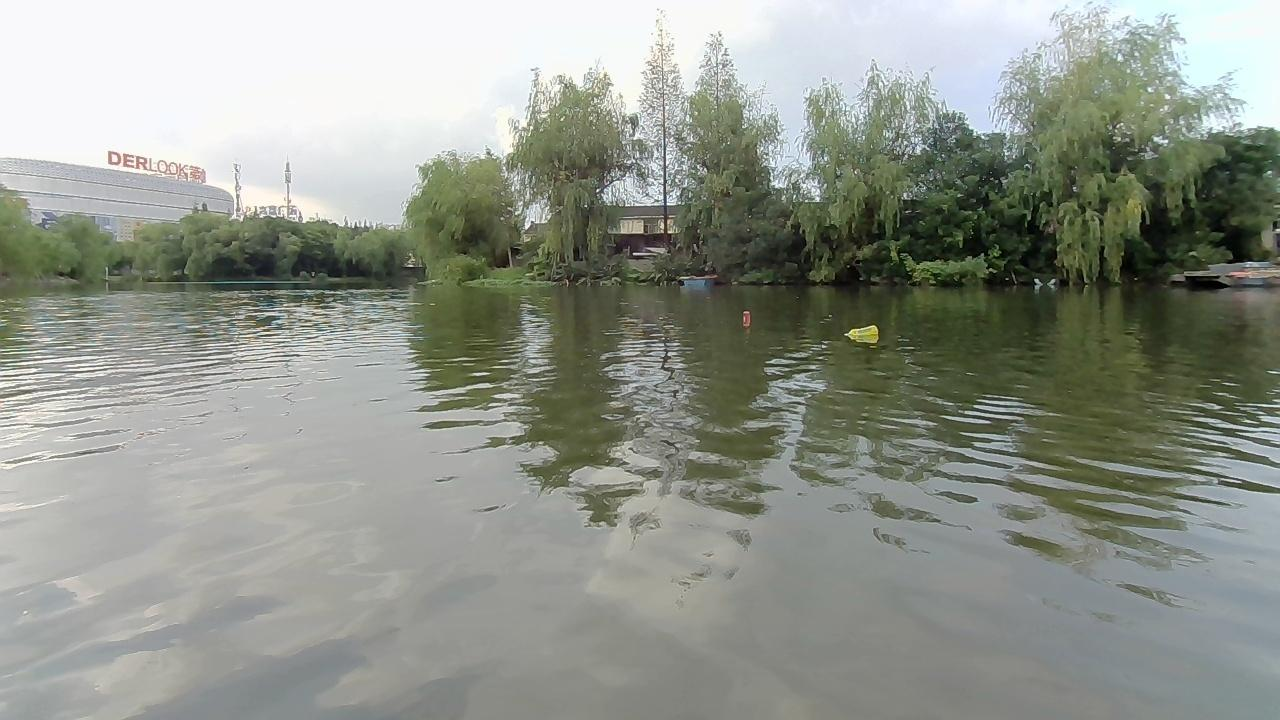bottle: (845, 321, 881, 342), (739, 310, 750, 321)
